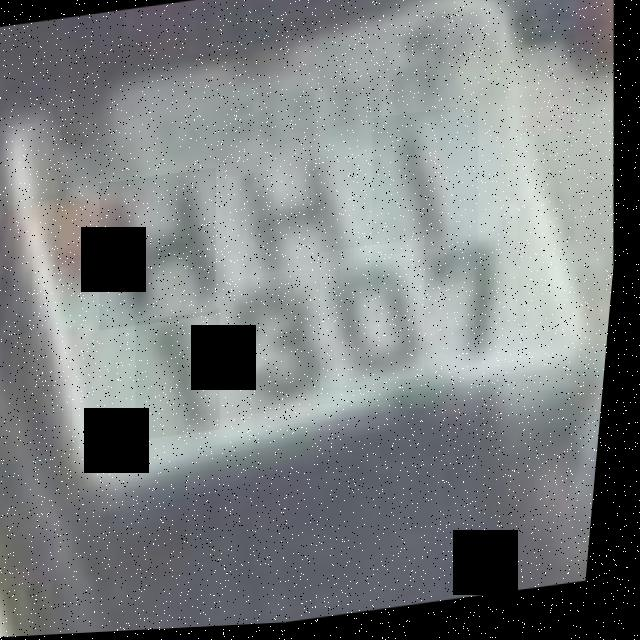0: (315, 242, 441, 396)
1: (133, 311, 236, 442)
3: (211, 268, 358, 424)
7: (408, 222, 536, 363)
H: (220, 128, 367, 288), (92, 170, 231, 332)
J: (365, 108, 493, 262)
